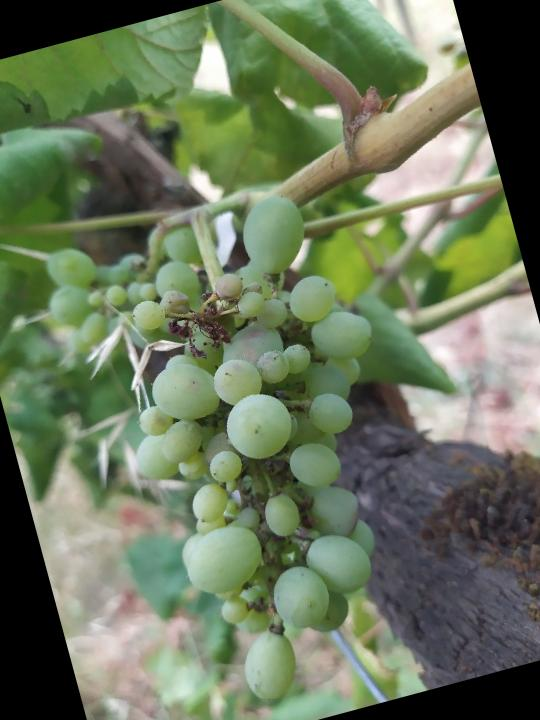grape: (74, 177, 462, 720)
